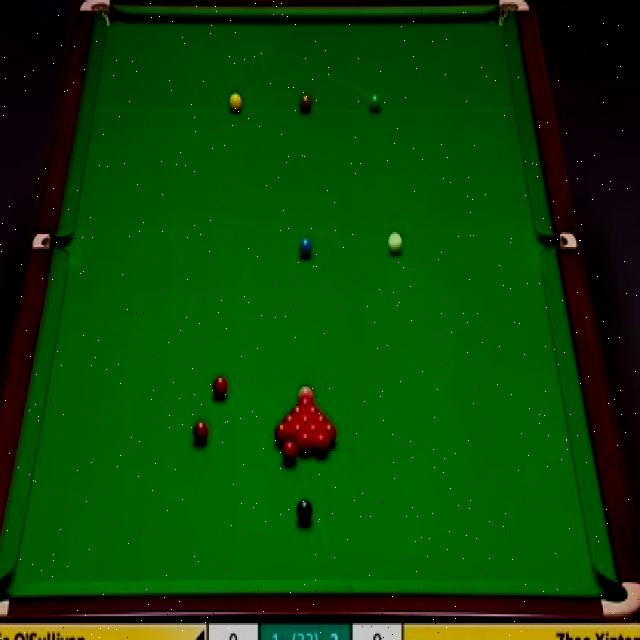black-ball: (296, 498, 313, 525)
blue-ball: (298, 236, 313, 256)
brown-ball: (298, 95, 313, 112)
green-ball: (368, 90, 383, 116)
pink-ball: (298, 386, 315, 404)
red-ball: (274, 421, 292, 446), (192, 418, 208, 446), (281, 438, 298, 462), (314, 431, 329, 458), (304, 423, 323, 443), (320, 422, 338, 443), (298, 431, 314, 454), (214, 375, 228, 401), (312, 412, 330, 427), (292, 424, 304, 444), (298, 412, 313, 428), (282, 412, 299, 426), (291, 403, 306, 418), (306, 402, 320, 418)
white-ball: (388, 232, 402, 254)
yellow-ball: (228, 92, 243, 114)
